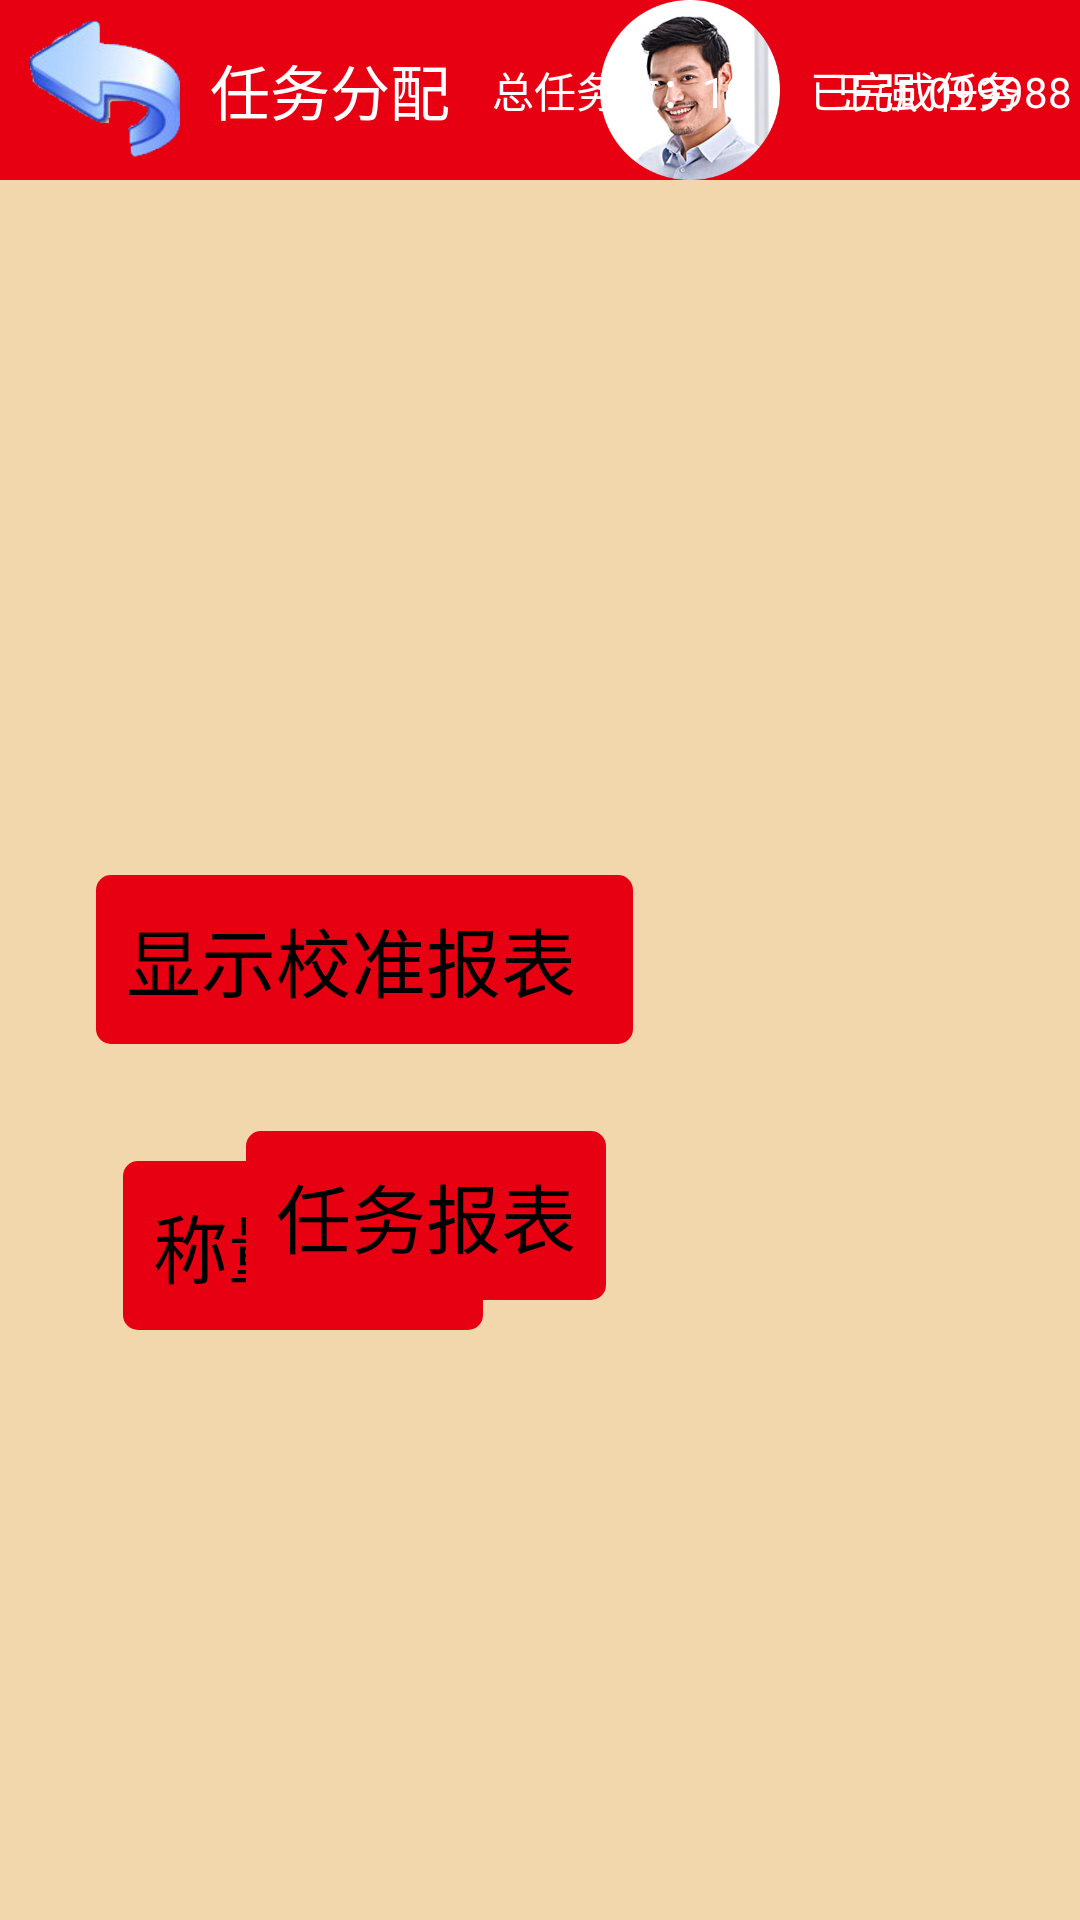

Point at icon controls on the screen. Image size 1080w x 1920h, points as [x,y].
back: [105,89]
